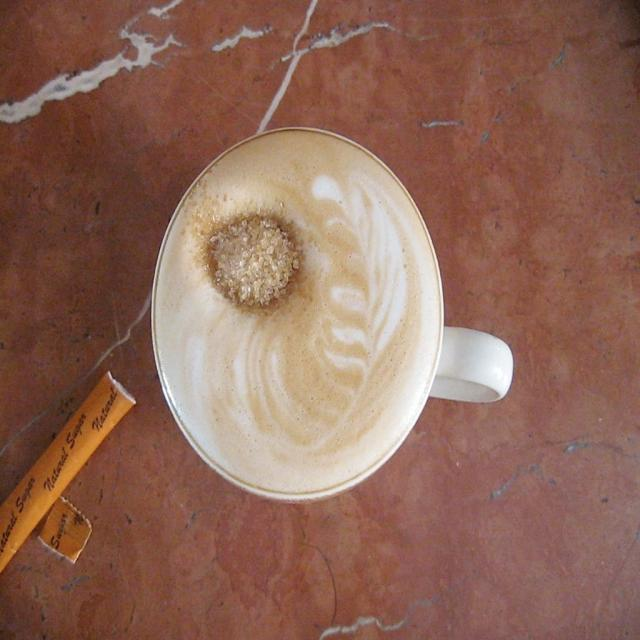Coffee: (154, 128, 444, 495)
